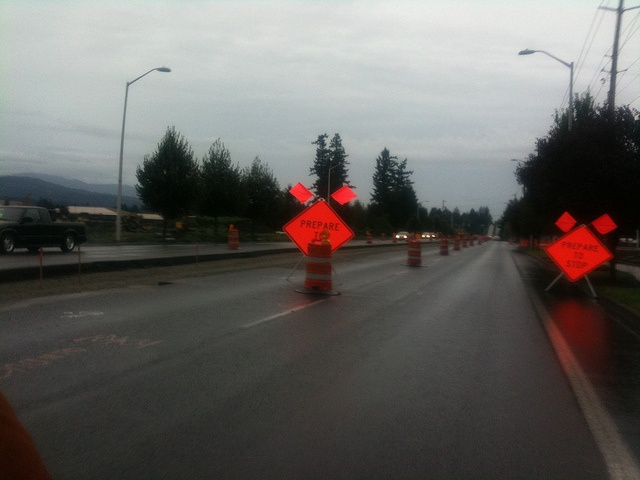car: (397, 232, 640, 472), (422, 232, 640, 470)
truck: (2, 206, 89, 462)
